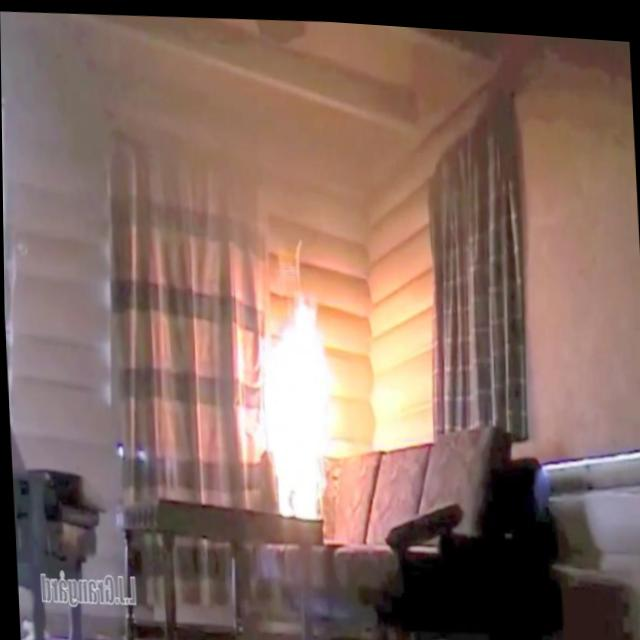fire: (242, 279, 344, 527)
